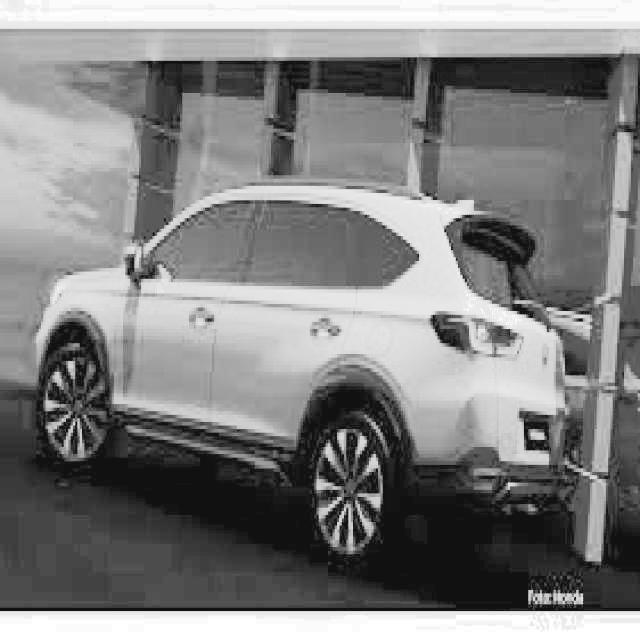Car: (33, 172, 569, 556)
